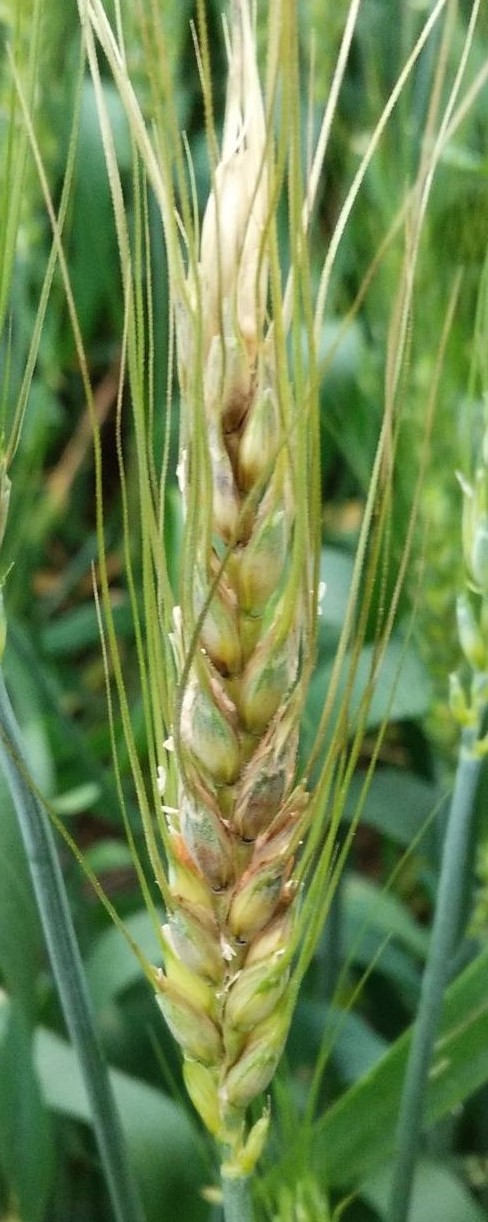Wheat scab: (88, 161, 365, 1161)
